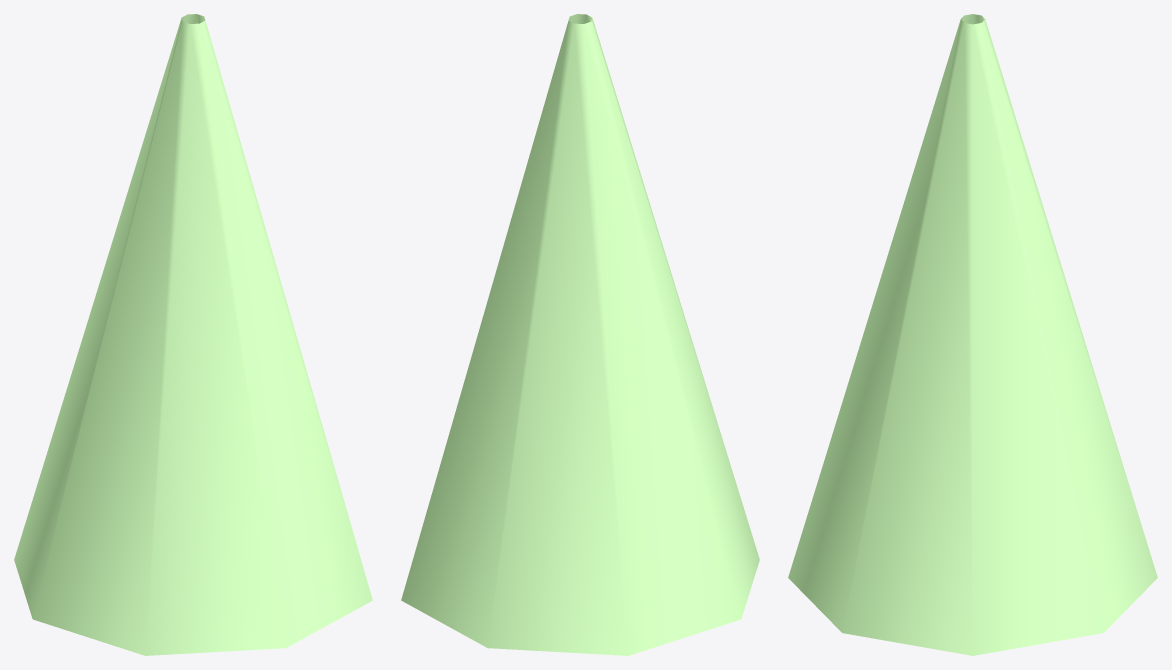
Rendered from worm_tail.glb.
3 views of the same model, side by side, from view 1: azimuth 30°, elevation 25°; view 2: azimuth 150°, elevation 25°; view 3: azimuth 270°, elevation 25° (orthographic).
Visible parts, largest first — view 1: TailTip; view 2: TailTip; view 3: TailTip.
Part boxes in pixels (x1,y1,x2,y2): TailTip: [14, 14, 372, 655]; TailTip: [401, 14, 759, 655]; TailTip: [788, 14, 1157, 655].
Size of the model in its own units: 0.3 by 0.5 by 0.3.
